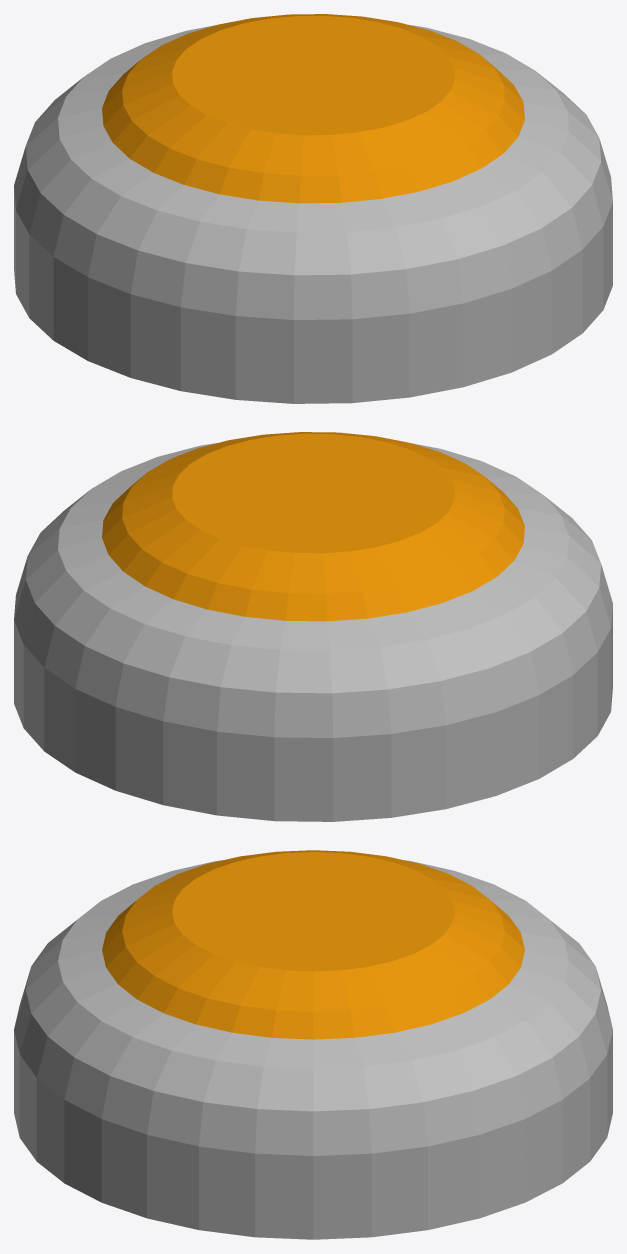
Rendered from luz para el tren 1.fbx.
3 views of the same model, one above another, from view 1: azimuth 30°, elevation 25°; view 2: azimuth 150°, elevation 25°; view 3: azimuth 270°, elevation 25° (orthographic).
Visible parts, largest first — view 1: Cylinder; view 2: Cylinder; view 3: Cylinder.
Boxes of the visible parts, <box> form: Cylinder: <box>14,14,612,403</box>; Cylinder: <box>14,432,612,821</box>; Cylinder: <box>14,850,612,1239</box>.
Bounding box in the file's own units: 200 × 74.21 × 200.
